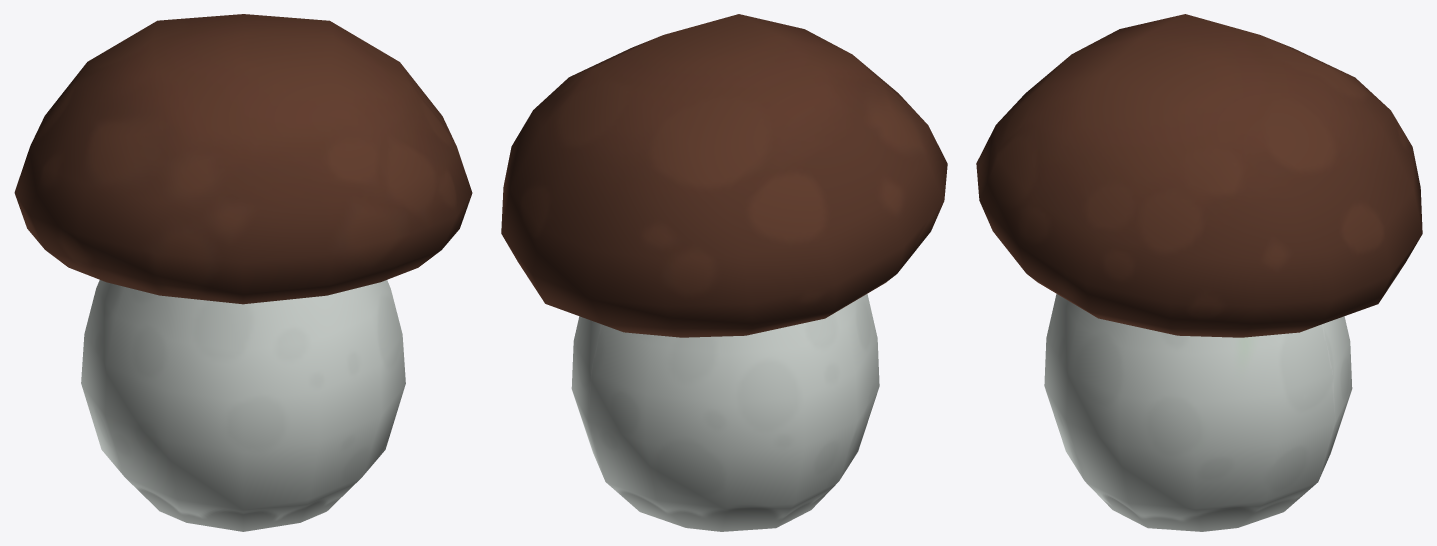
File: Mushroom_18.fbx
3 views of the same model, side by side, from view 1: azimuth 30°, elevation 25°; view 2: azimuth 150°, elevation 25°; view 3: azimuth 270°, elevation 25° (orthographic). The views are drawn at different scales.
Parts seen in each view (by area): view 1: Mushroom_18; view 2: Mushroom_18; view 3: Mushroom_18.
Part boxes in pixels (bbox=[...]): Mushroom_18: bbox=[14, 14, 472, 531]; Mushroom_18: bbox=[501, 14, 947, 531]; Mushroom_18: bbox=[976, 14, 1422, 531].
Bounding box in the file's own units: 25.18 × 27.15 × 25.06.
1 material, 1 textured.
